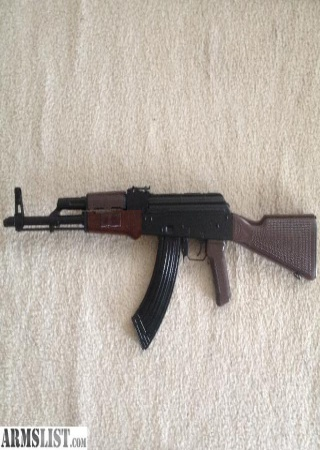rifle: (2, 175, 320, 350)
